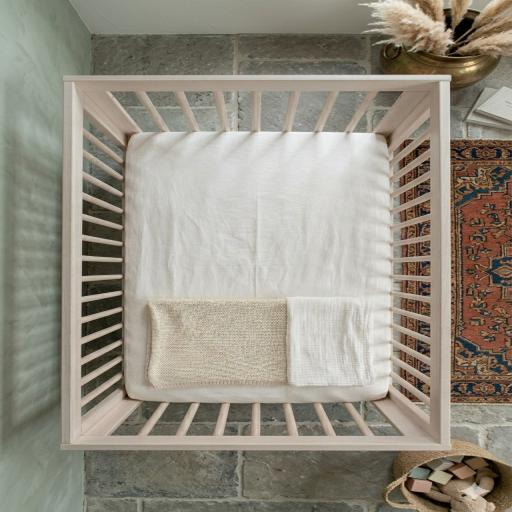crib: (86, 91, 401, 437)
